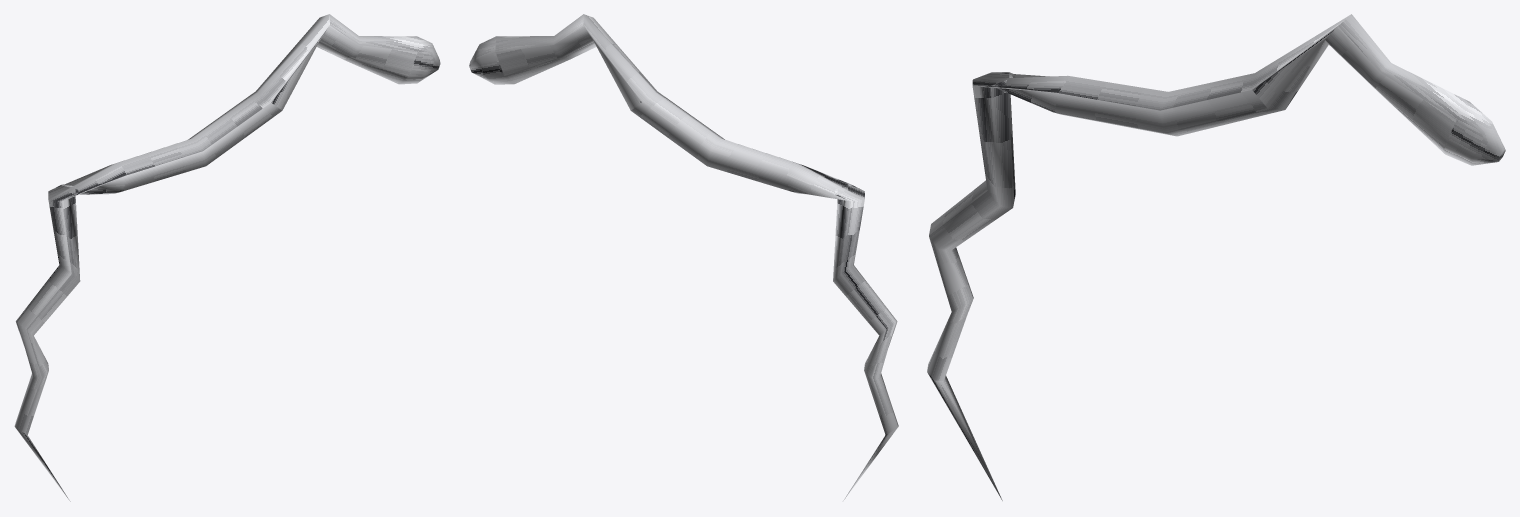
Rendered from snake_000048.obj.
3 renders of one model, left to right at view 1: azimuth 30°, elevation 25°; view 2: azimuth 150°, elevation 25°; view 3: azimuth 330°, elevation 25°, orthographic. The views are drawn at different scales.
Parts seen in each view (by area): view 1: Cylinder; view 2: Cylinder; view 3: Cylinder.
Boxes of the visible parts, bbox=[...] form: Cylinder: bbox=[14, 14, 440, 501]; Cylinder: bbox=[469, 14, 898, 500]; Cylinder: bbox=[927, 14, 1505, 500].
Size of the model in its own units: 5.86 by 5.6 by 0.3671.
